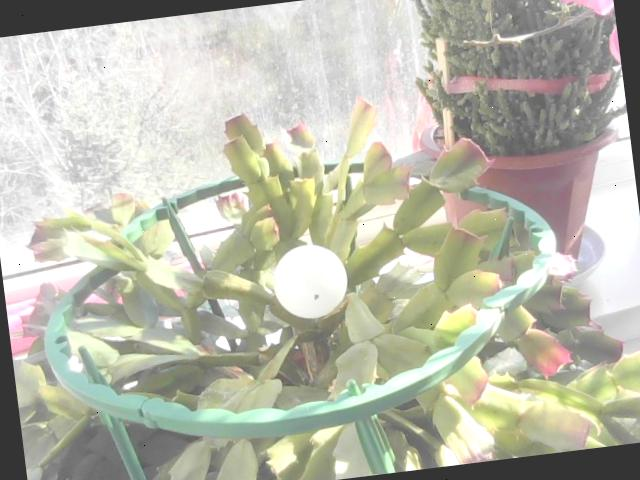ball: (271, 242, 352, 322)
